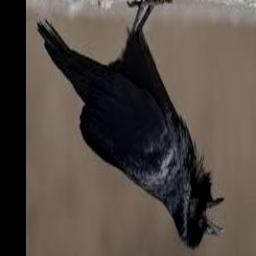Crow: (37, 0, 225, 251)
